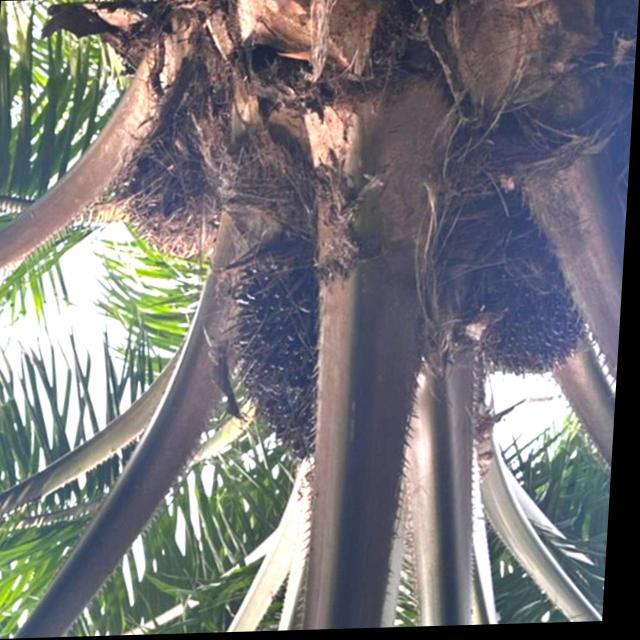almost: (206, 233, 356, 474), (447, 212, 593, 386), (104, 116, 244, 263)
